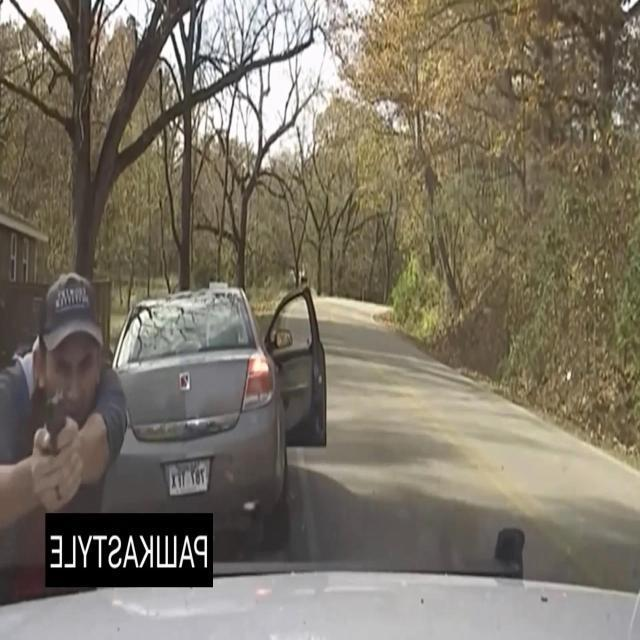pistol: (36, 388, 81, 484)
